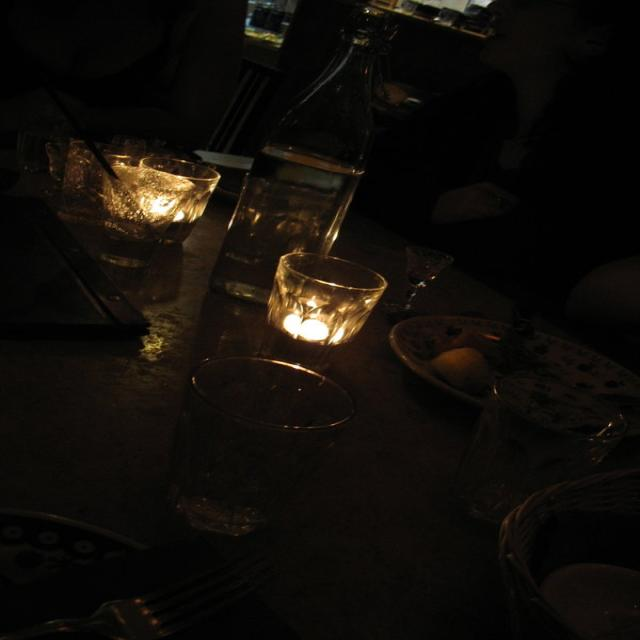Bottle: (226, 9, 446, 286)
Cup: (146, 340, 351, 541), (38, 135, 258, 282), (466, 350, 617, 534), (271, 243, 394, 369)
